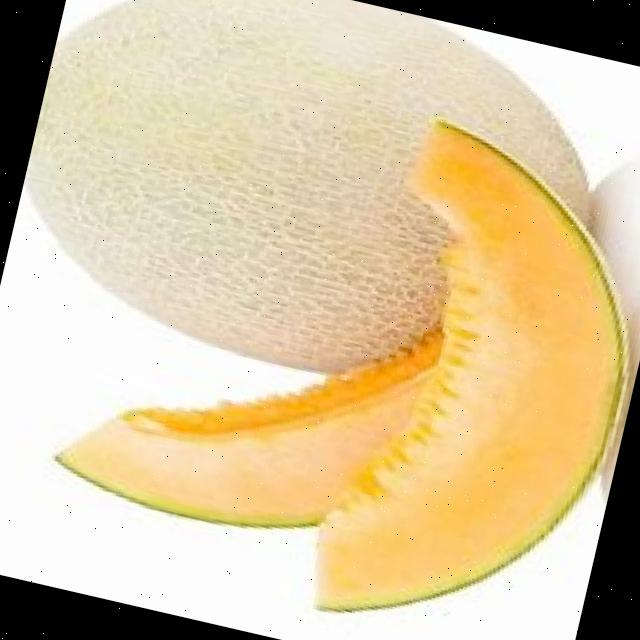Hami Melon: (0, 0, 623, 424), (300, 110, 640, 640)
